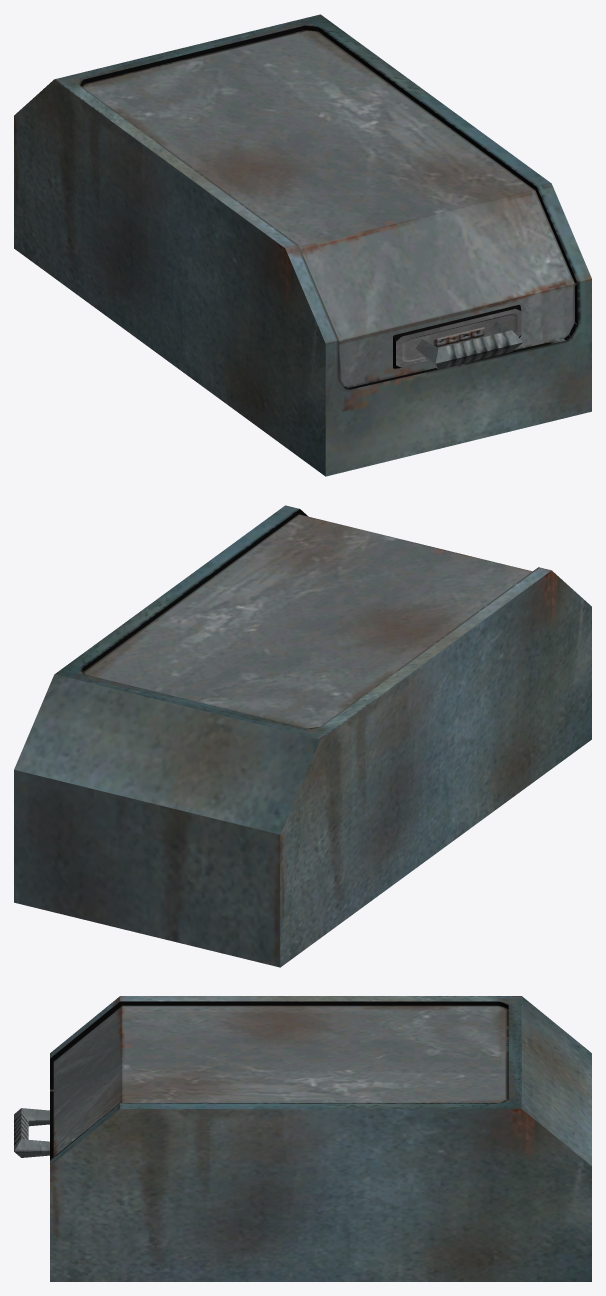
The model's file is con_gen_crate_m_s1_l0.fbx.
3 views of the same model, one above another, from view 1: azimuth 30°, elevation 25°; view 2: azimuth 150°, elevation 25°; view 3: azimuth 270°, elevation 25° (orthographic). The views are drawn at different scales.
Parts seen in each view (by area): view 1: mesh_node; view 2: mesh_node; view 3: mesh_node.
Boxes of the visible parts, x1,y1,x2,y2 form: mesh_node: [14, 14, 591, 476]; mesh_node: [14, 505, 591, 967]; mesh_node: [14, 996, 591, 1281].
Size of the model in its own units: 0.3473 by 0.2475 by 0.7505.
Materials: 1 (1 with a texture image).
